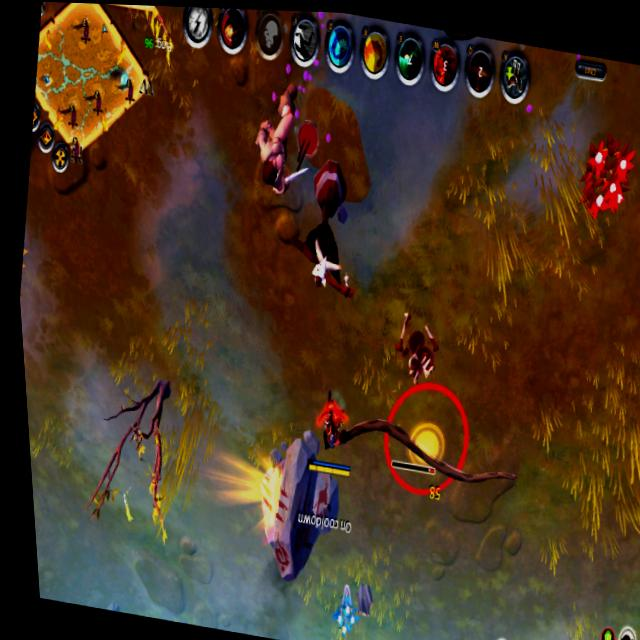hide: (322, 565, 370, 640)
ore: (322, 350, 537, 515), (238, 74, 327, 210), (569, 121, 640, 233)
red: (298, 383, 365, 491)
